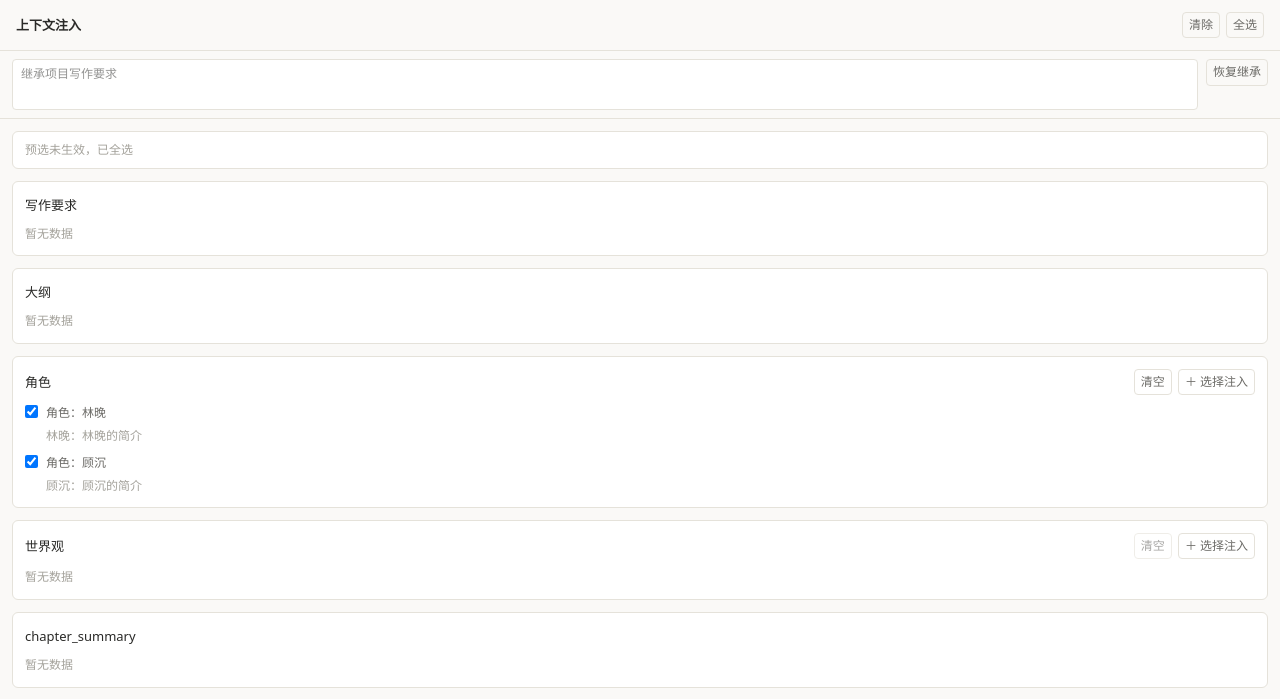
Test: ContextPanel — #1235 勾选可删空（可添加/可删除/可删空） › 逐个取消所有角色勾选 → 最终 override.character_ids=[] 且面板角色区为空（删空，不复活为全量）
Expected: the label with test id "context-character-1" is shown, [25,454,142,494]
# 取消第一个 → 白名单 [c-b] → 剩 1 条
Click the checkbox with test id "context-item-toggle-0": coordinates (32, 412) [25,405,38,418]
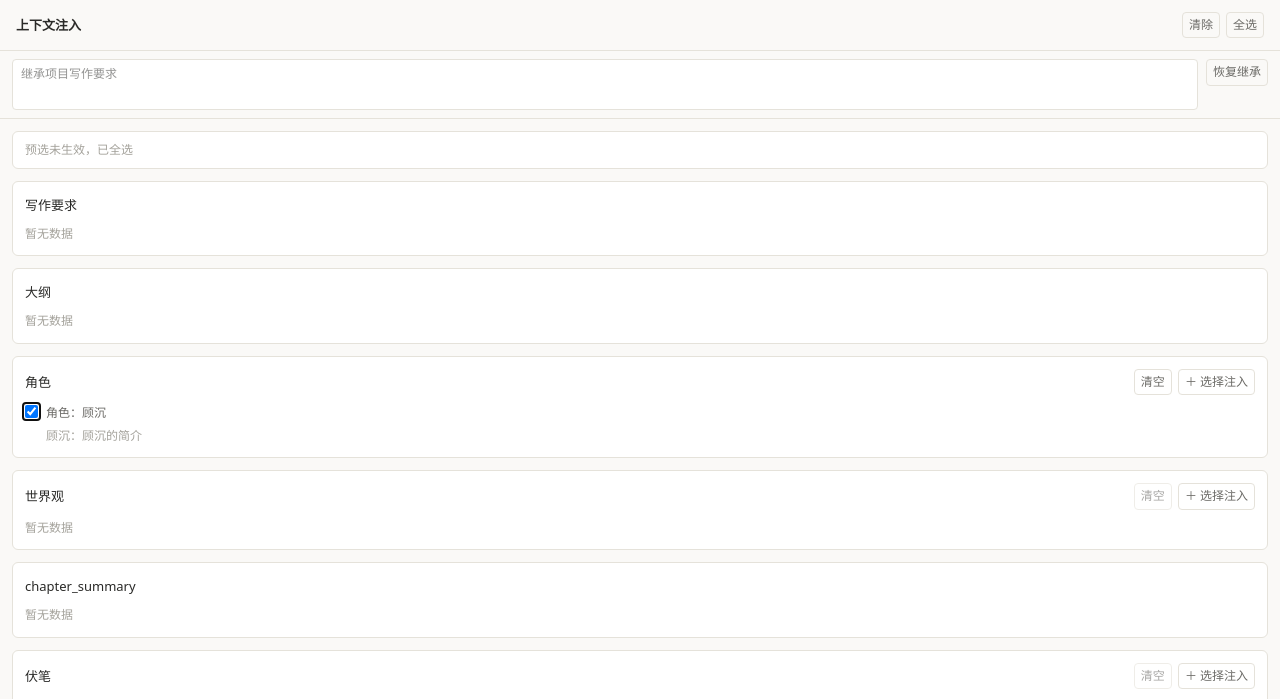
Expected: the label with test id "context-character-0" is shown, [25,404,142,444]
Result: the label with test id "context-character-1" is gone
# 取消最后一个 → 白名单 [] → 删空
Click the checkbox with test id "context-item-toggle-0": coordinates (32, 412) [25,405,38,418]
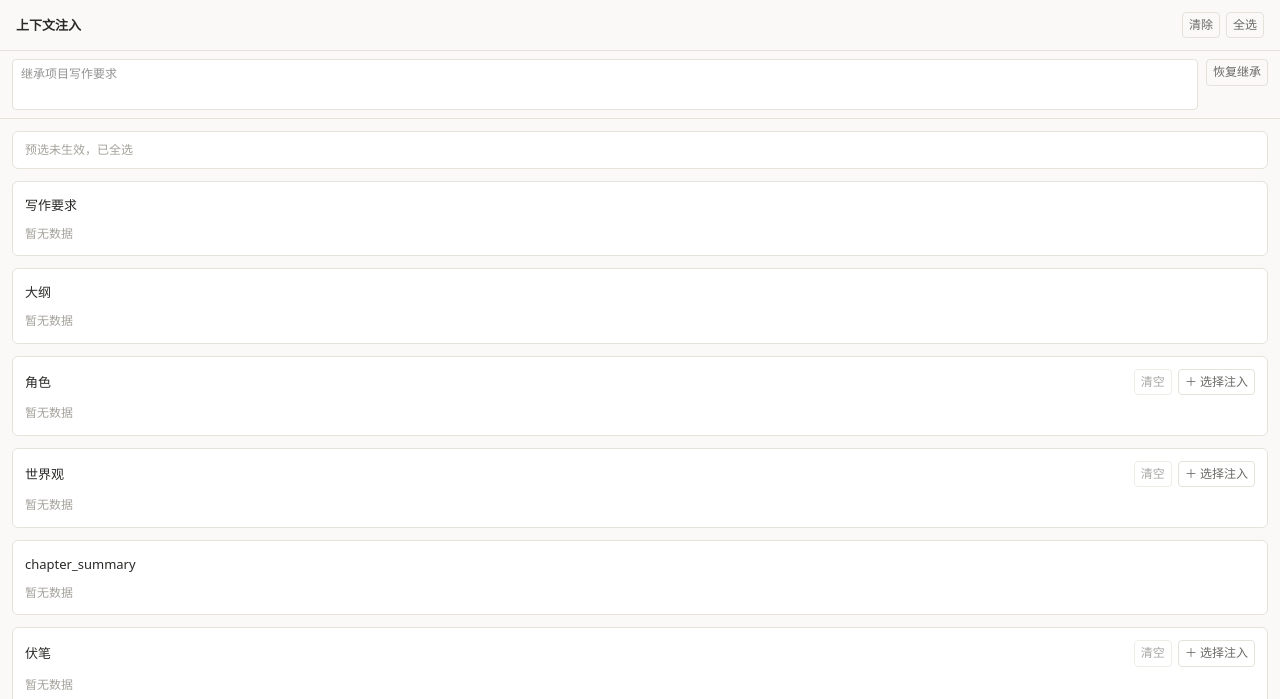
Result: the label with test id "context-character-0" is gone
